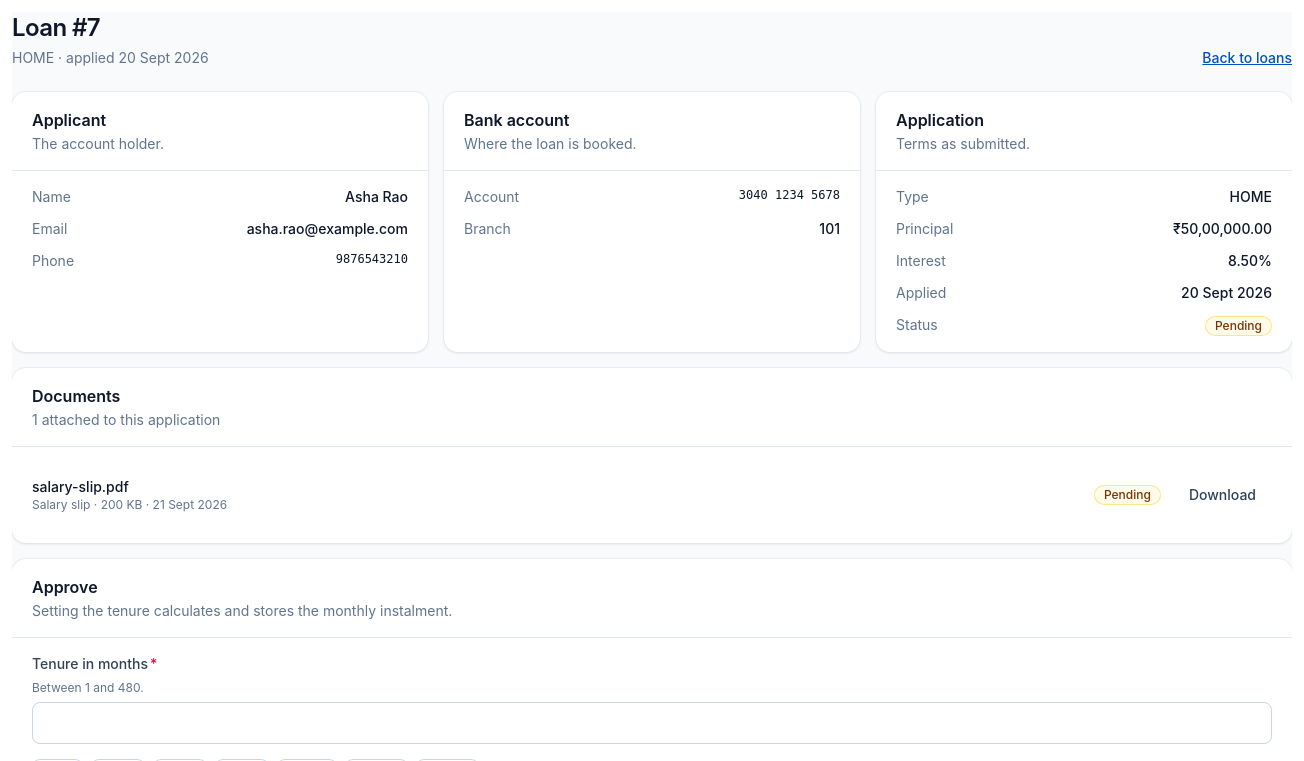
Test: LoanDetailPage › documents › surfaces a failed download without losing the list
Step 1. Click the button "Download" → (1222, 495), box [1173, 475, 1272, 515]
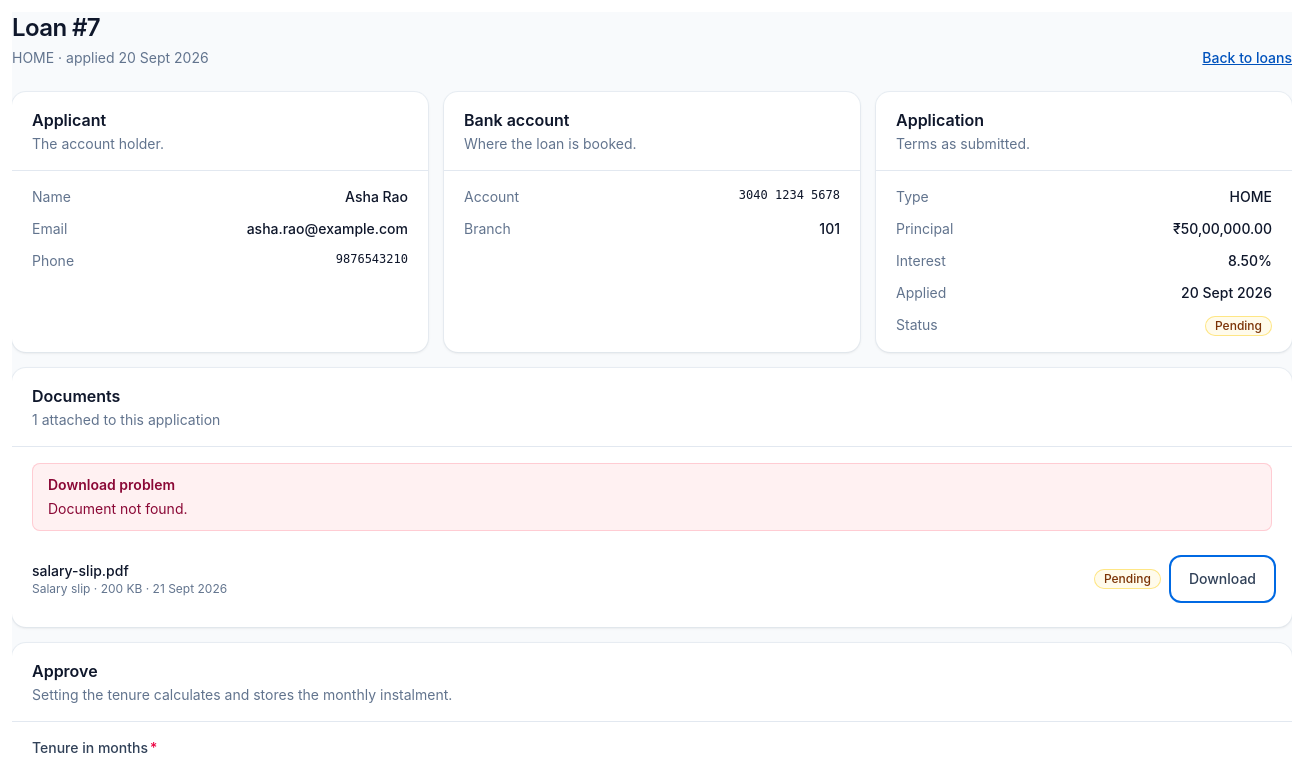
expect the text "salary-slip.pdf" is shown: met, box [32, 562, 129, 579]
expect the text "Download problem" is shown: met, box [48, 476, 175, 493]
